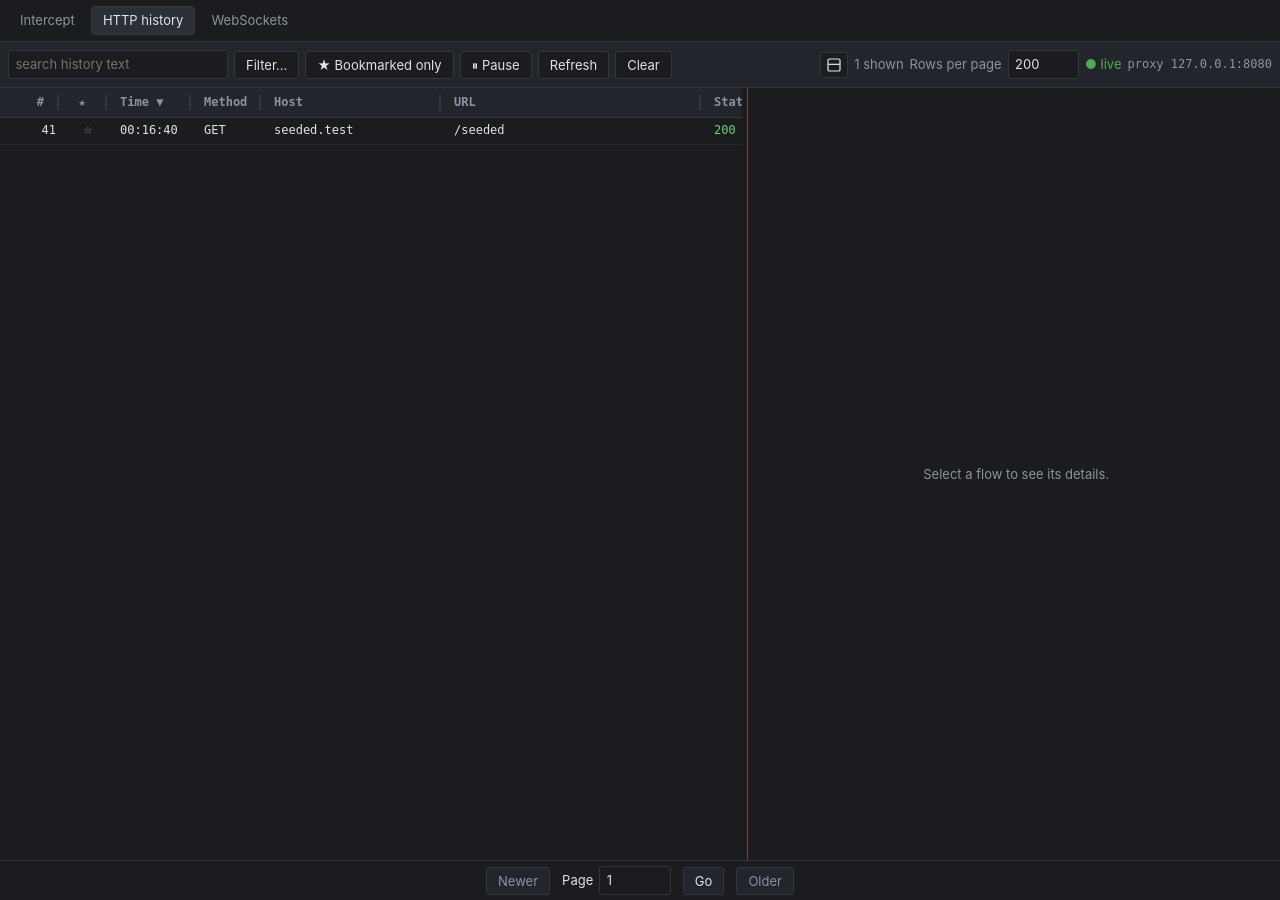
it: ProxyTab › applies the default highlight when a request is bookmarked
This screenshot has width=1280, height=900.
Click the button named "Bookmark" at (88, 130), box [84, 122, 92, 137]
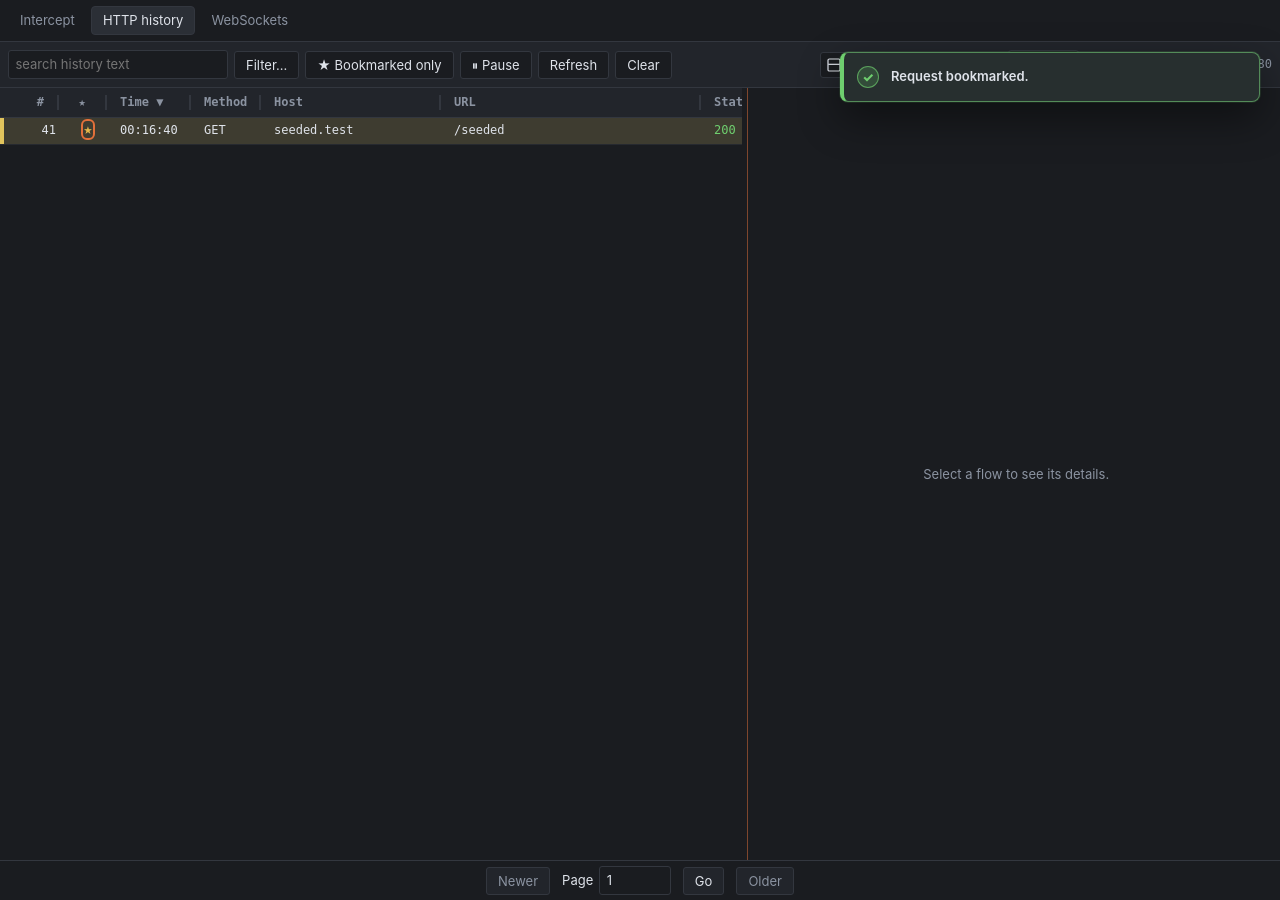
Expected: the text "Request bookmarked." is shown, [891, 68, 1029, 84]
